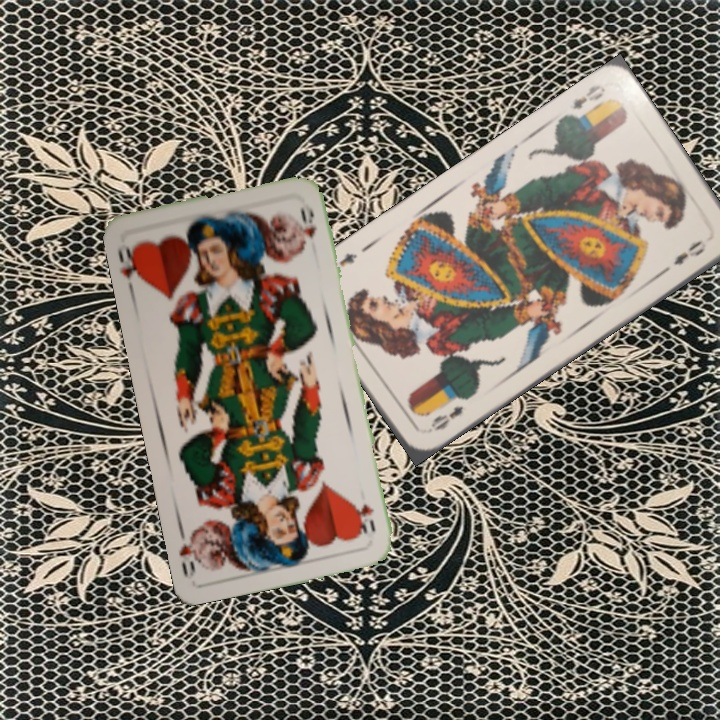EO: (426, 401, 466, 434), (568, 80, 608, 112)
HO: (113, 237, 146, 295), (354, 499, 378, 537)
